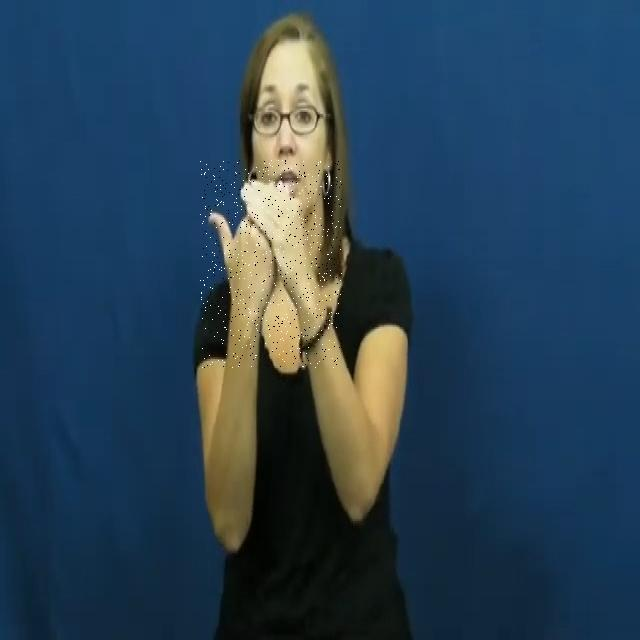sandwich: (200, 160, 342, 368)
